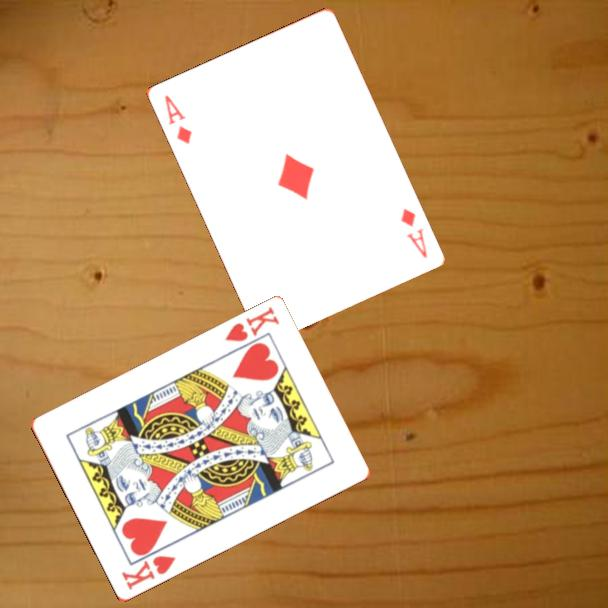d01: (160, 91, 194, 147), (397, 205, 430, 261)
h13: (221, 303, 282, 345), (118, 552, 179, 593)
